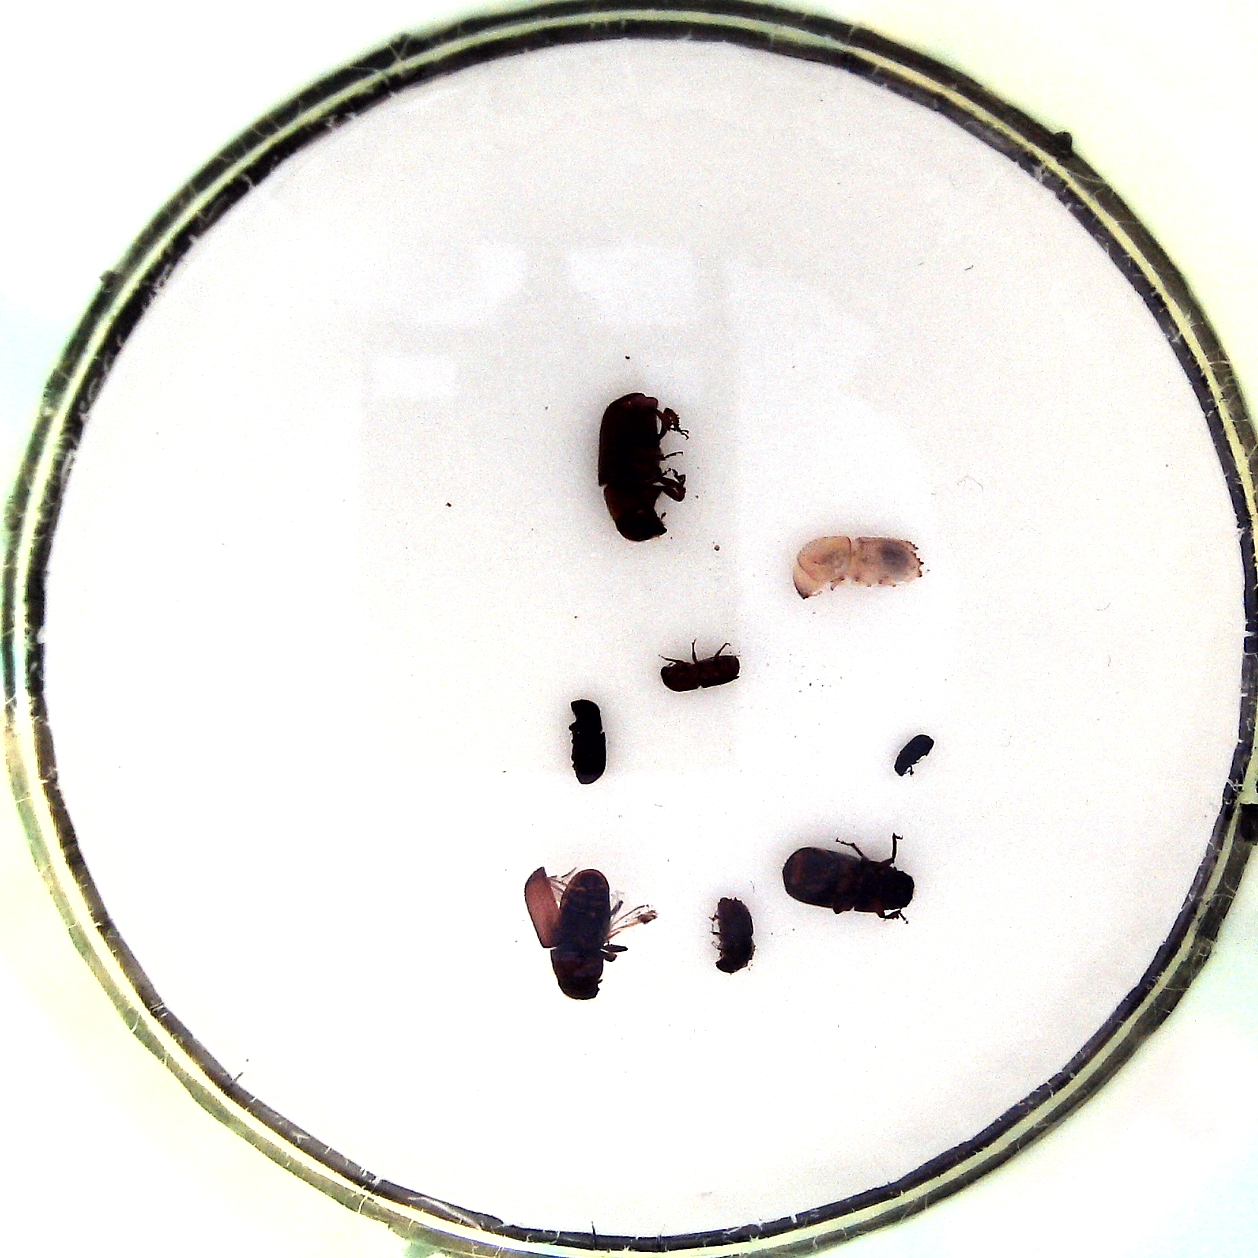Boerner: (790, 535, 929, 600)
Leconte: (523, 863, 652, 1002), (593, 392, 690, 543), (778, 836, 924, 923)
Linnaeus: (708, 887, 757, 973)
acuminatus: (655, 645, 751, 692)
armandi: (564, 691, 613, 787)
coleoptera: (892, 733, 933, 776)
